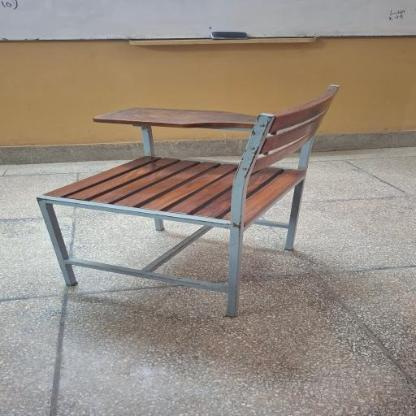chair: (32, 75, 349, 321)
